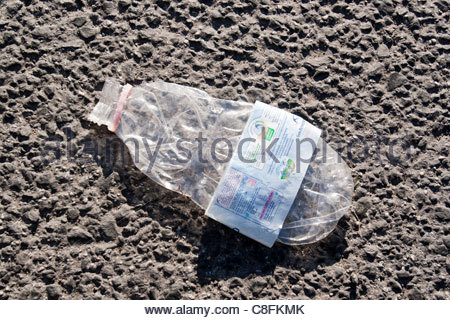bottle: (83, 78, 353, 245)
